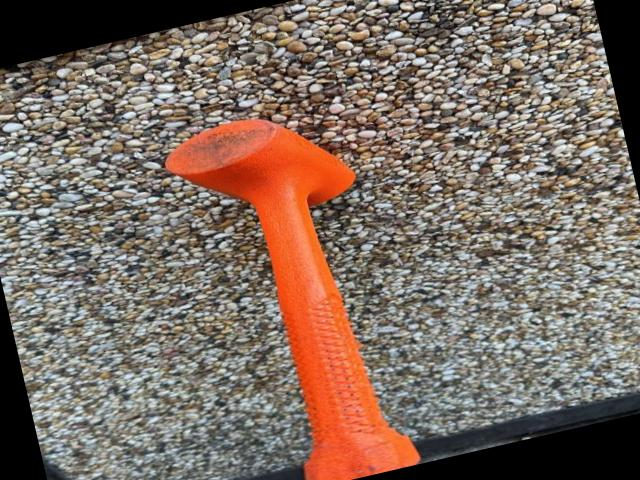hammer: (158, 95, 422, 480)
